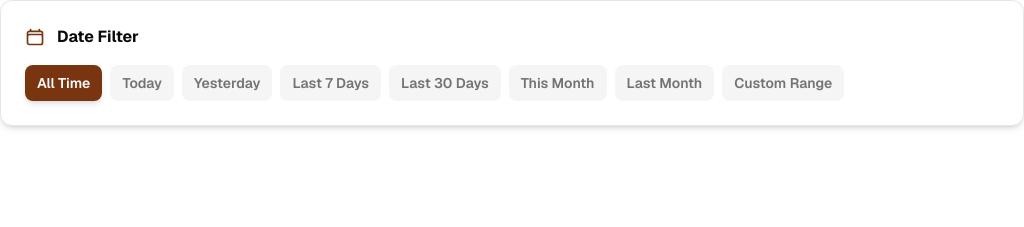
Test: DateRangePicker Component › Clear Filter › should hide custom inputs when cleared from custom range
The width and height of the screenshot is (1024, 227).
// Select custom
Click the button "Custom Range".
click(783, 83)  # box [722,65,844,101]
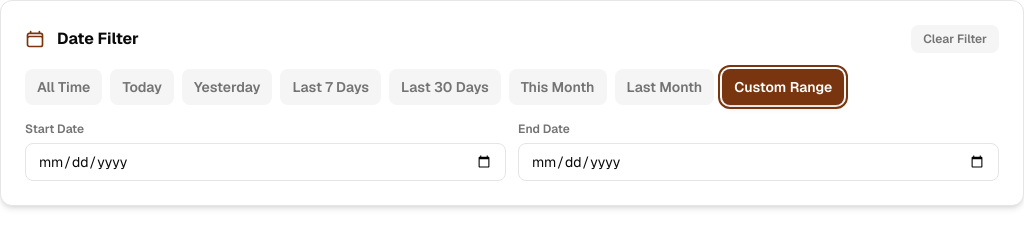
Expected: the date field labelled "Start Date" is shown, [25,143,506,181]
Click the button "Clear Filter".
click(955, 39)  # box [911,25,999,53]
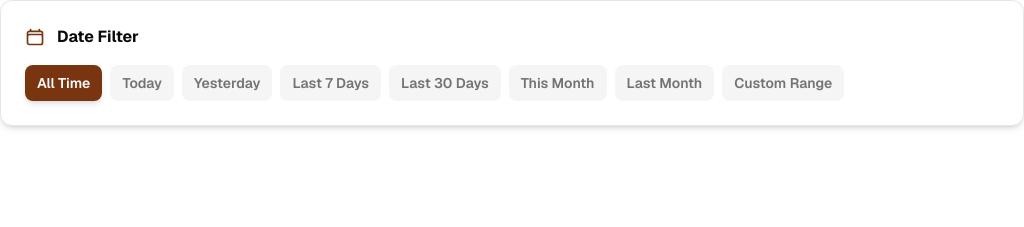
Expected: the label labelled "Start Date" is gone
